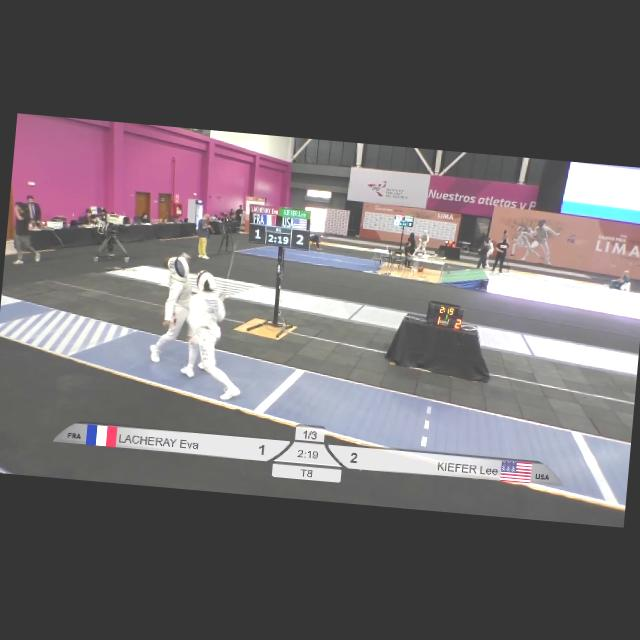blade: (216, 232, 245, 302)
